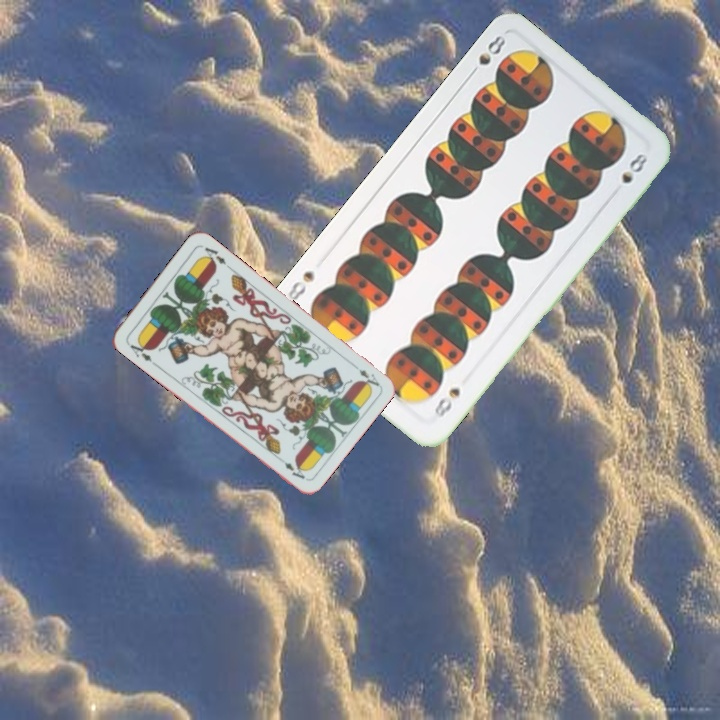EA: (123, 336, 158, 368), (347, 359, 382, 391)
S8: (464, 31, 509, 80), (429, 383, 463, 425)
